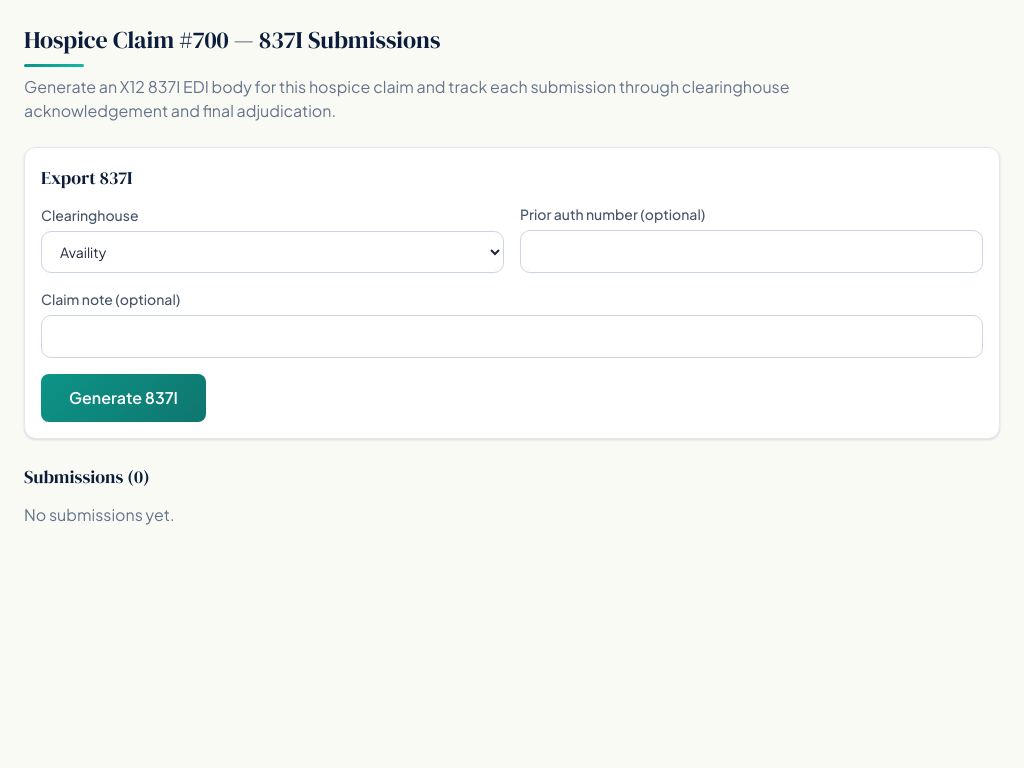
Test: HospiceClaimSubmissionsPage › exports an 837I and refreshes the list
This screenshot has width=1024, height=768.
Expected: the heading "Submissions (0)" is shown, [24,464,150,489]
Click the button "Generate 837I" at (123, 398), box [41,374,206,422]
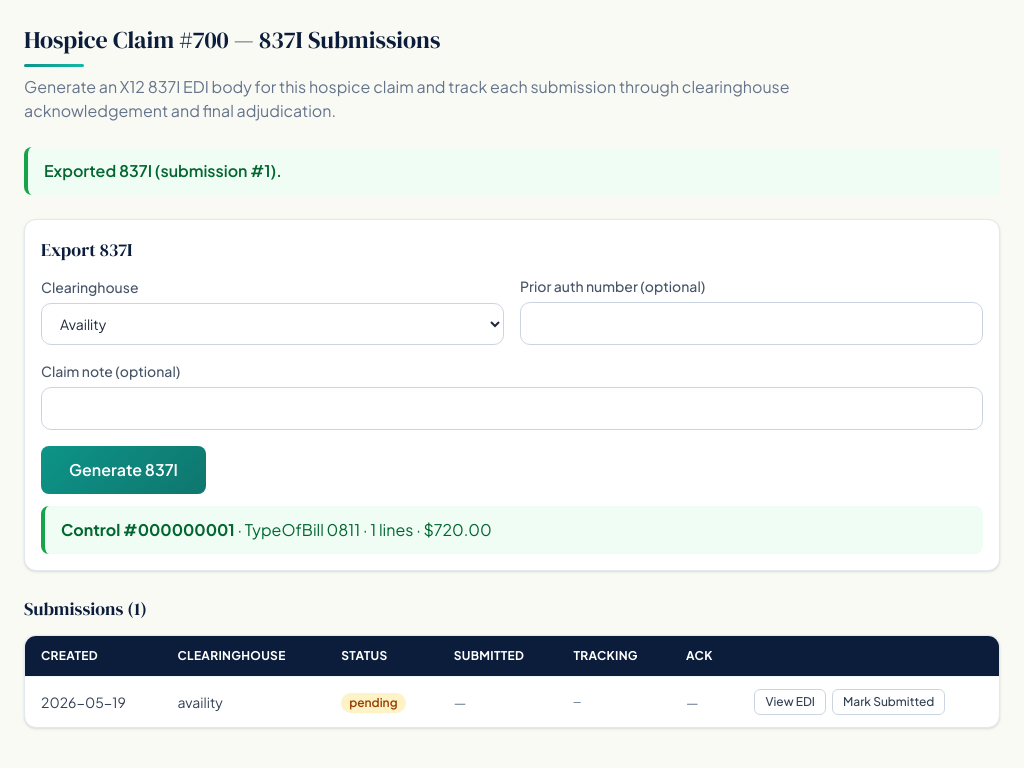
Expected: the text "Control #000000001" is shown, [61,519,235,540]
Expected: the text "Control #000000001 · TypeOfBill 0811 · 1 lines · $720.00" is shown, [61,519,492,540]
